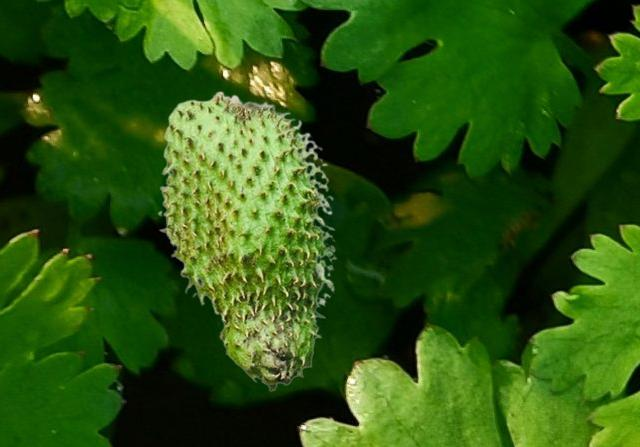guyabano: (157, 90, 337, 391)
